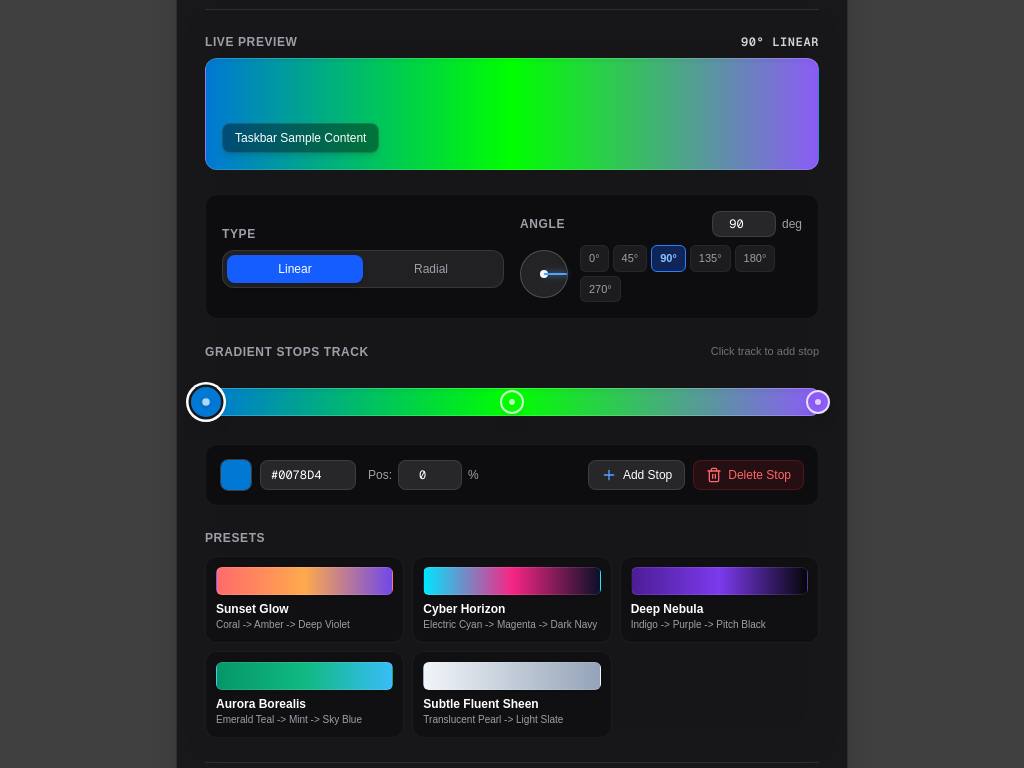
Test: GradientEditorModal › allows deleting an active stop down to minimum 2 stops
This screenshot has width=1024, height=768.
Expected: the number of sliders named "stop" is 3, x1=191 y1=387 x2=221 y2=417; x1=500 y1=390 x2=524 y2=414; x1=806 y1=390 x2=830 y2=414
Click the button "Delete Stop" at coordinates (749, 475), box x1=693 y1=460 x2=804 y2=490
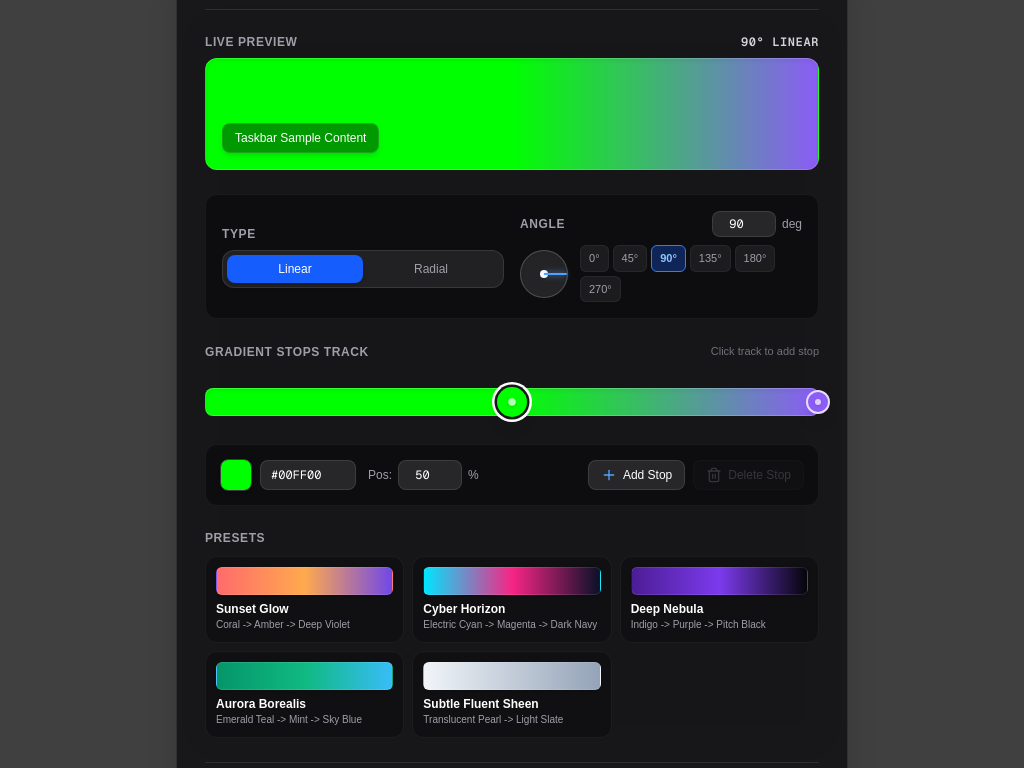
Expected: the number of sliders named "stop" is 2, x1=497 y1=387 x2=527 y2=417; x1=806 y1=390 x2=830 y2=414
Expected: the button "Delete Stop" is disabled, x1=693 y1=460 x2=804 y2=490
